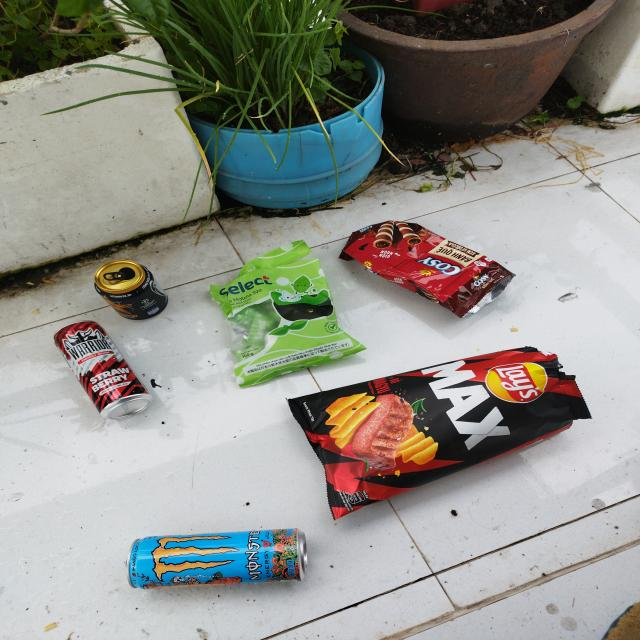can: (127, 528, 309, 590), (54, 320, 152, 420), (94, 258, 168, 320)
snack package: (285, 345, 593, 522), (211, 240, 368, 389), (337, 220, 517, 319)
